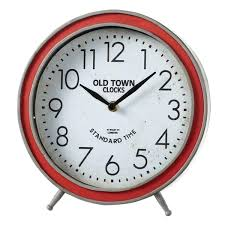alarm_clock: (17, 7, 211, 213), (17, 14, 211, 213)
